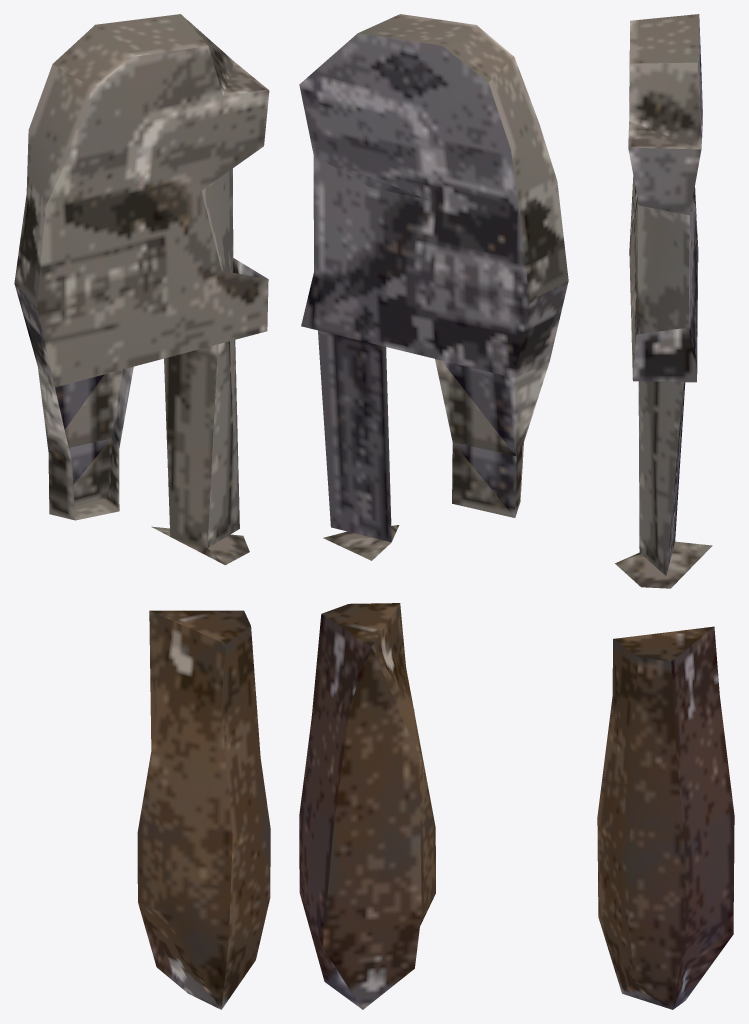
File: adjustable_wrench.glb
3 views of the same model, side by side, from view 1: azimuth 30°, elevation 25°; view 2: azimuth 150°, elevation 25°; view 3: azimuth 270°, elevation 25° (orthographic). The views are drawn at different scales.
Visible parts, largest first — view 1: mesh; view 2: mesh; view 3: mesh.
Part boxes in pixels (left/top/right/bottom): mesh: left=14, top=14, right=270, bottom=1009; mesh: left=299, top=14, right=568, bottom=1009; mesh: left=597, top=14, right=734, bottom=1009.
Size of the model in its own units: 0.065 by 0.2541 by 0.0334.
1 material, 1 textured.
